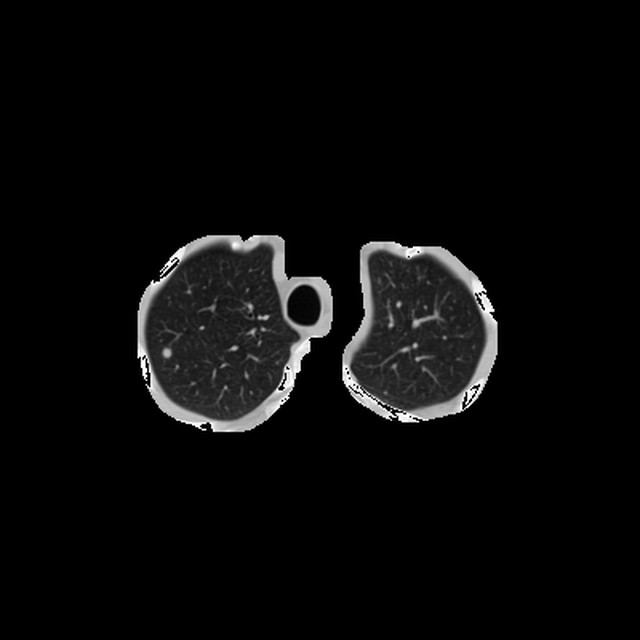PN: (160, 346, 173, 358)
